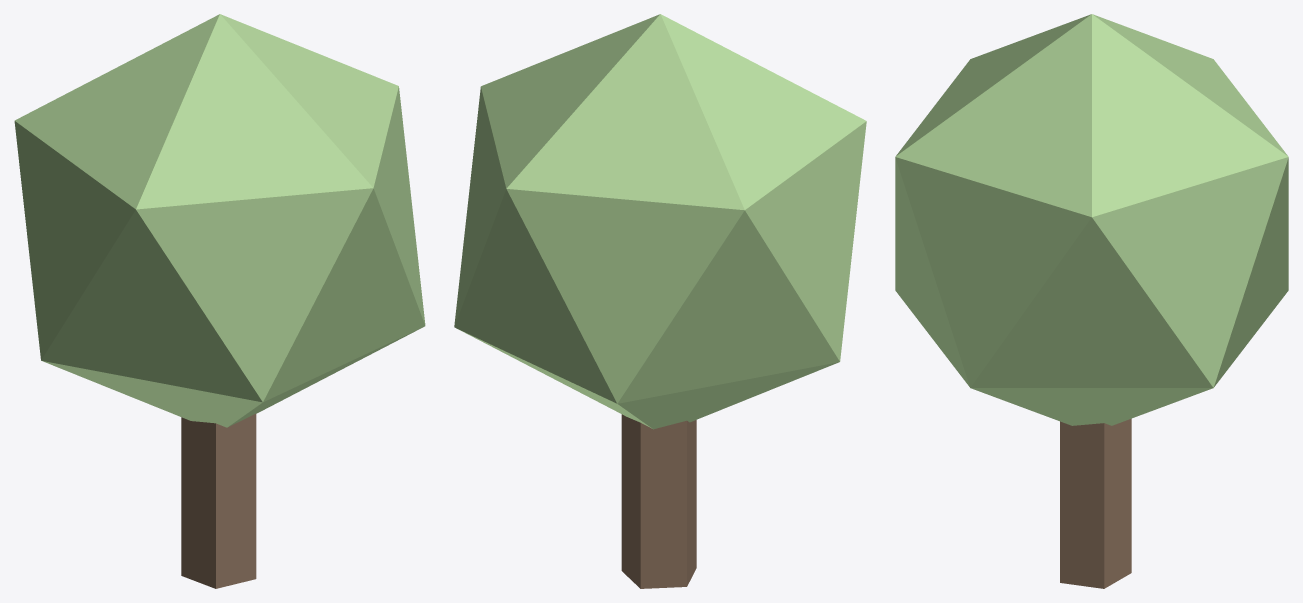
File: tree_round.glb
3 renders of one model, left to right at view 1: azimuth 30°, elevation 25°; view 2: azimuth 150°, elevation 25°; view 3: azimuth 270°, elevation 25°, orthographic.
Visible parts, largest first — view 1: tree_round; view 2: tree_round; view 3: tree_round.
Boxes of the visible parts, x1,y1,x2,y2 form: tree_round: (14, 14, 425, 588); tree_round: (454, 14, 866, 588); tree_round: (895, 14, 1288, 588).
Size of the model in its own units: 1.88 by 2.8 by 1.79.
